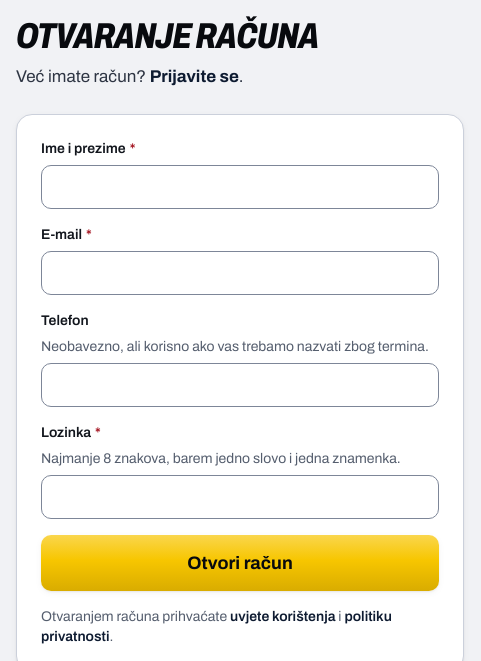
obrazac za otvaranje računa › javlja koja je greška u kojem polju, a ne samo „neispravan unos"
Type "Ivan Horvat" into the field labelled "Ime i prezime*" at (240, 186), box [41,164,439,208]
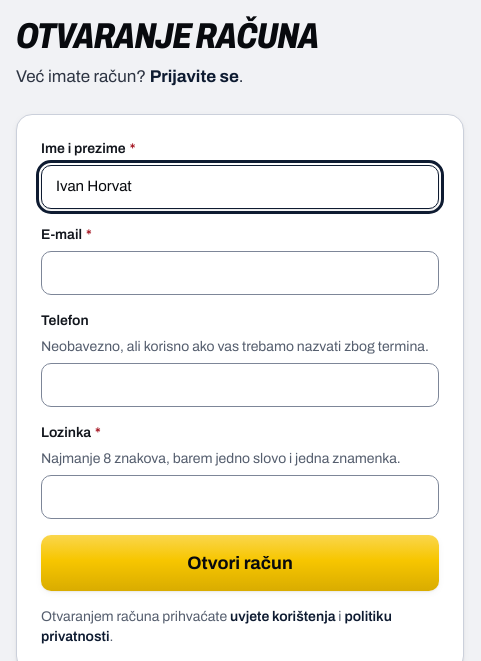
Type "ovo-nije-email" into the field labelled "E-mail*" at (240, 272), box [41,250,439,294]
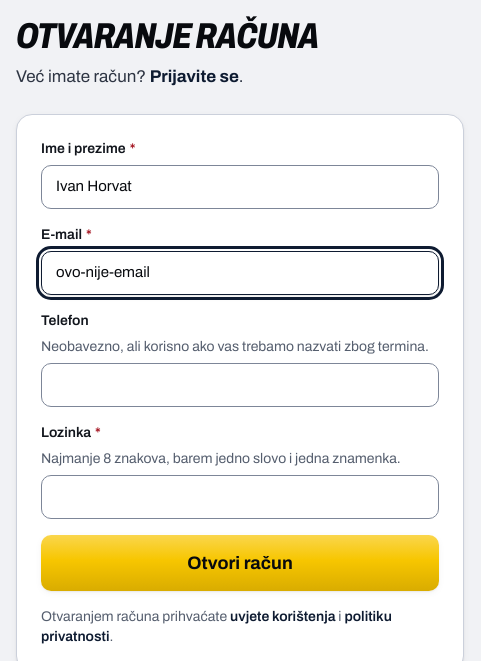
Type "kratka" into the password field labelled "Lozinka*" at (240, 496), box [41,474,439,518]
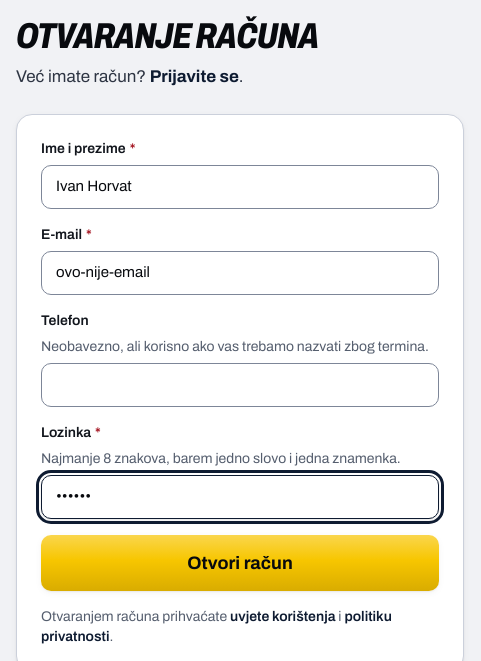
Click the button "Otvori račun" at (240, 562), box [41,534,439,590]
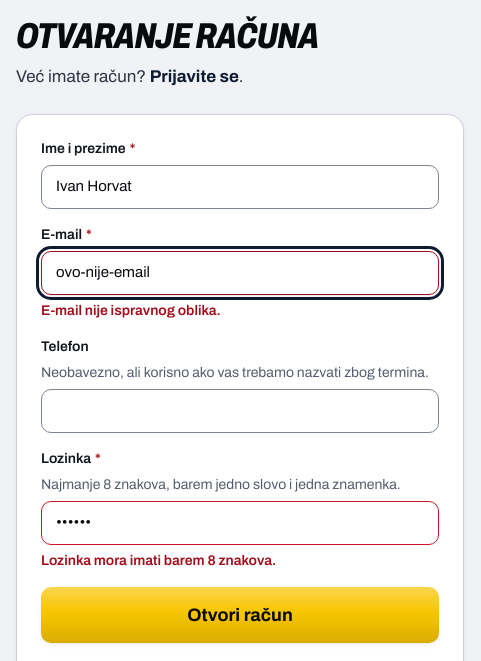
Result: the text "E-mail nije ispravnog oblika." is shown at [41,302,221,318]
Result: the text "Lozinka mora imati barem 8 znakova." is shown at [41,552,276,568]
